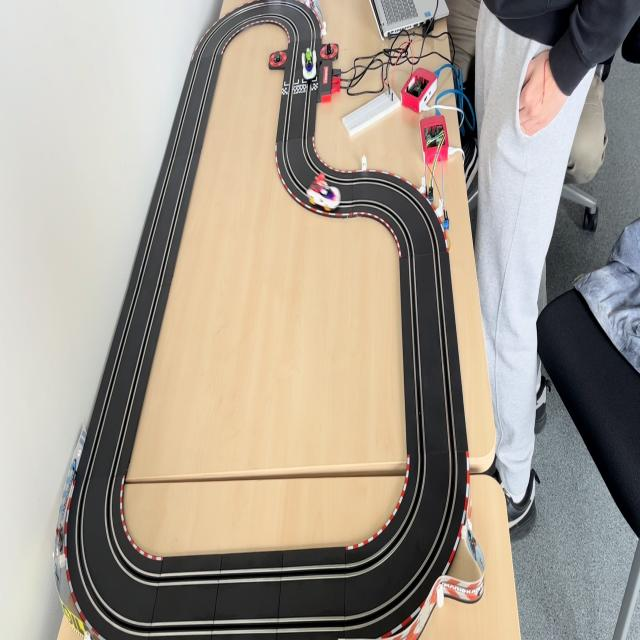mario: (304, 173, 344, 212)
yoshi: (302, 46, 318, 82)
